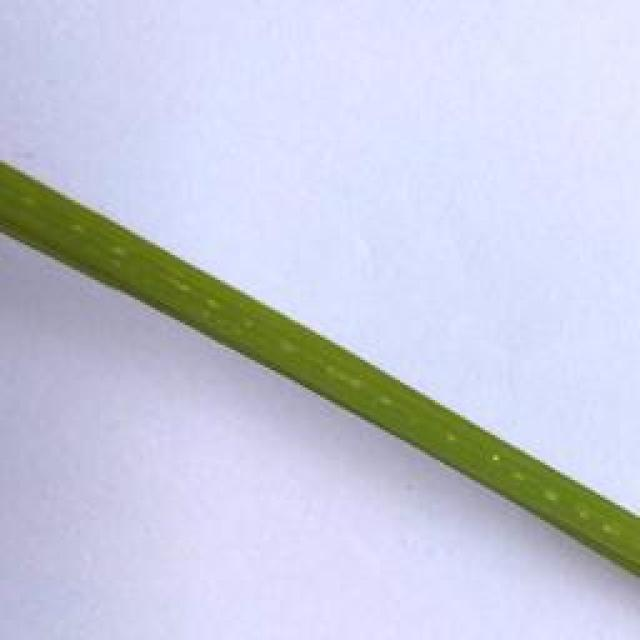Healthy-Plant: (0, 158, 640, 583)
